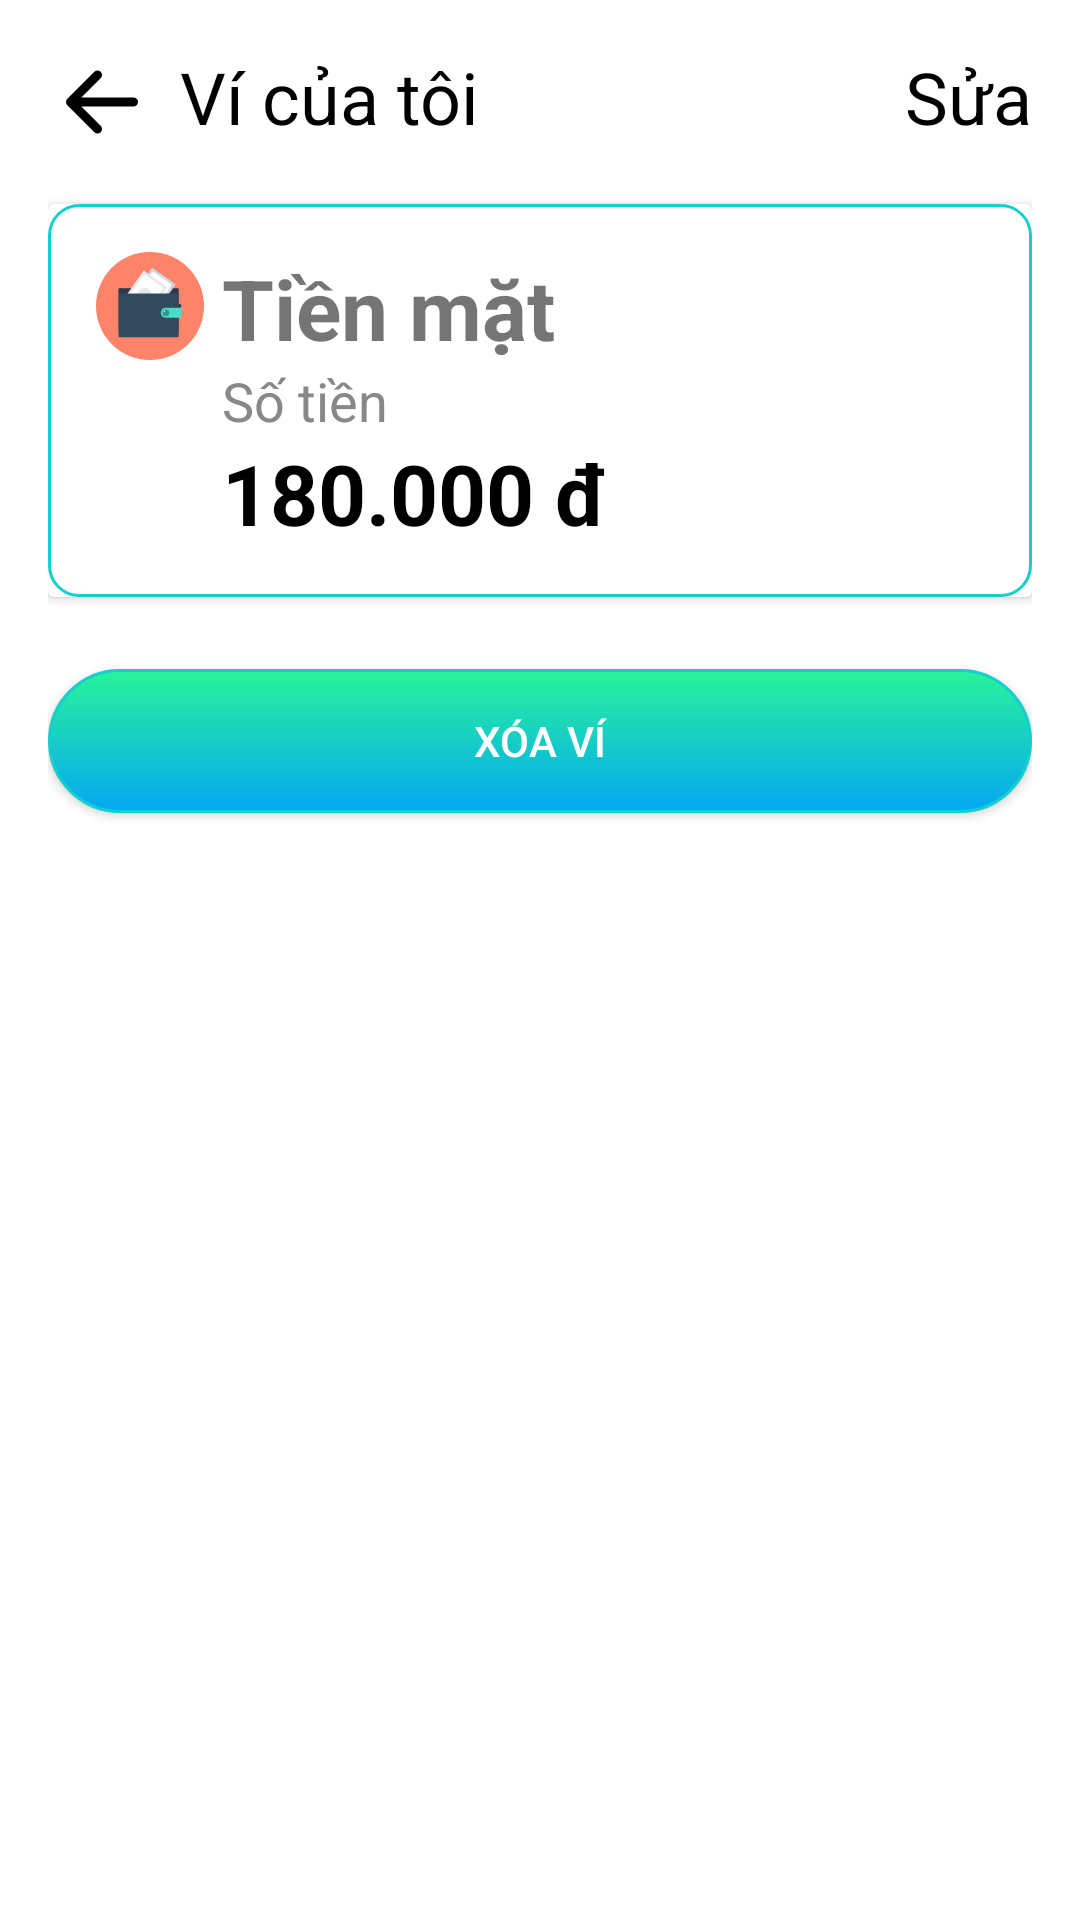

Screen size 1080*1920. Icon name, then its box in pixels as [x1,y1,x2,y2]:
Back: [66,70,138,134]
wallet: [96,252,204,360]
